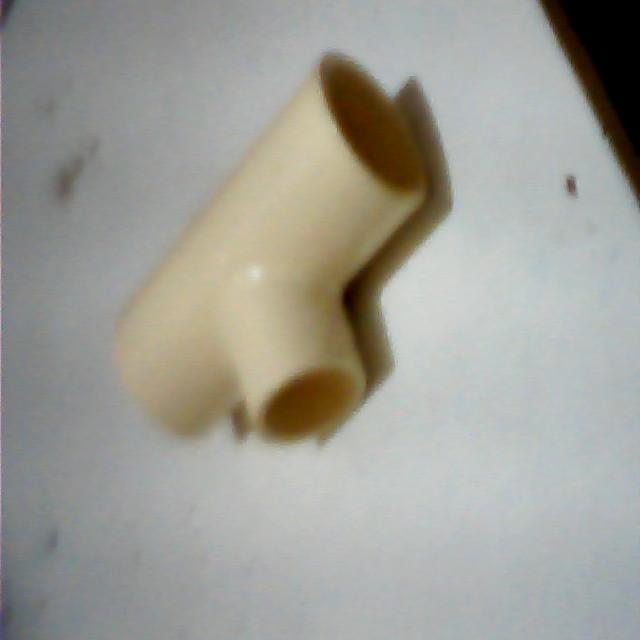T Joint: (112, 54, 445, 446)
